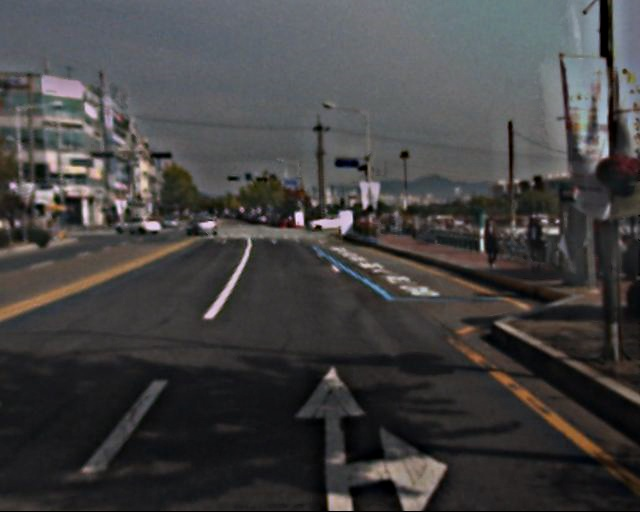person: (524, 211, 550, 274), (481, 217, 503, 271)
